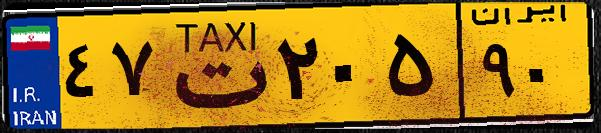0: (330, 28, 385, 110), (525, 38, 570, 115)
2: (270, 28, 330, 110)
4: (57, 26, 110, 100)
5: (385, 28, 445, 110)
7: (110, 28, 158, 98)
9: (475, 38, 525, 113)
ت: (158, 12, 270, 120)
